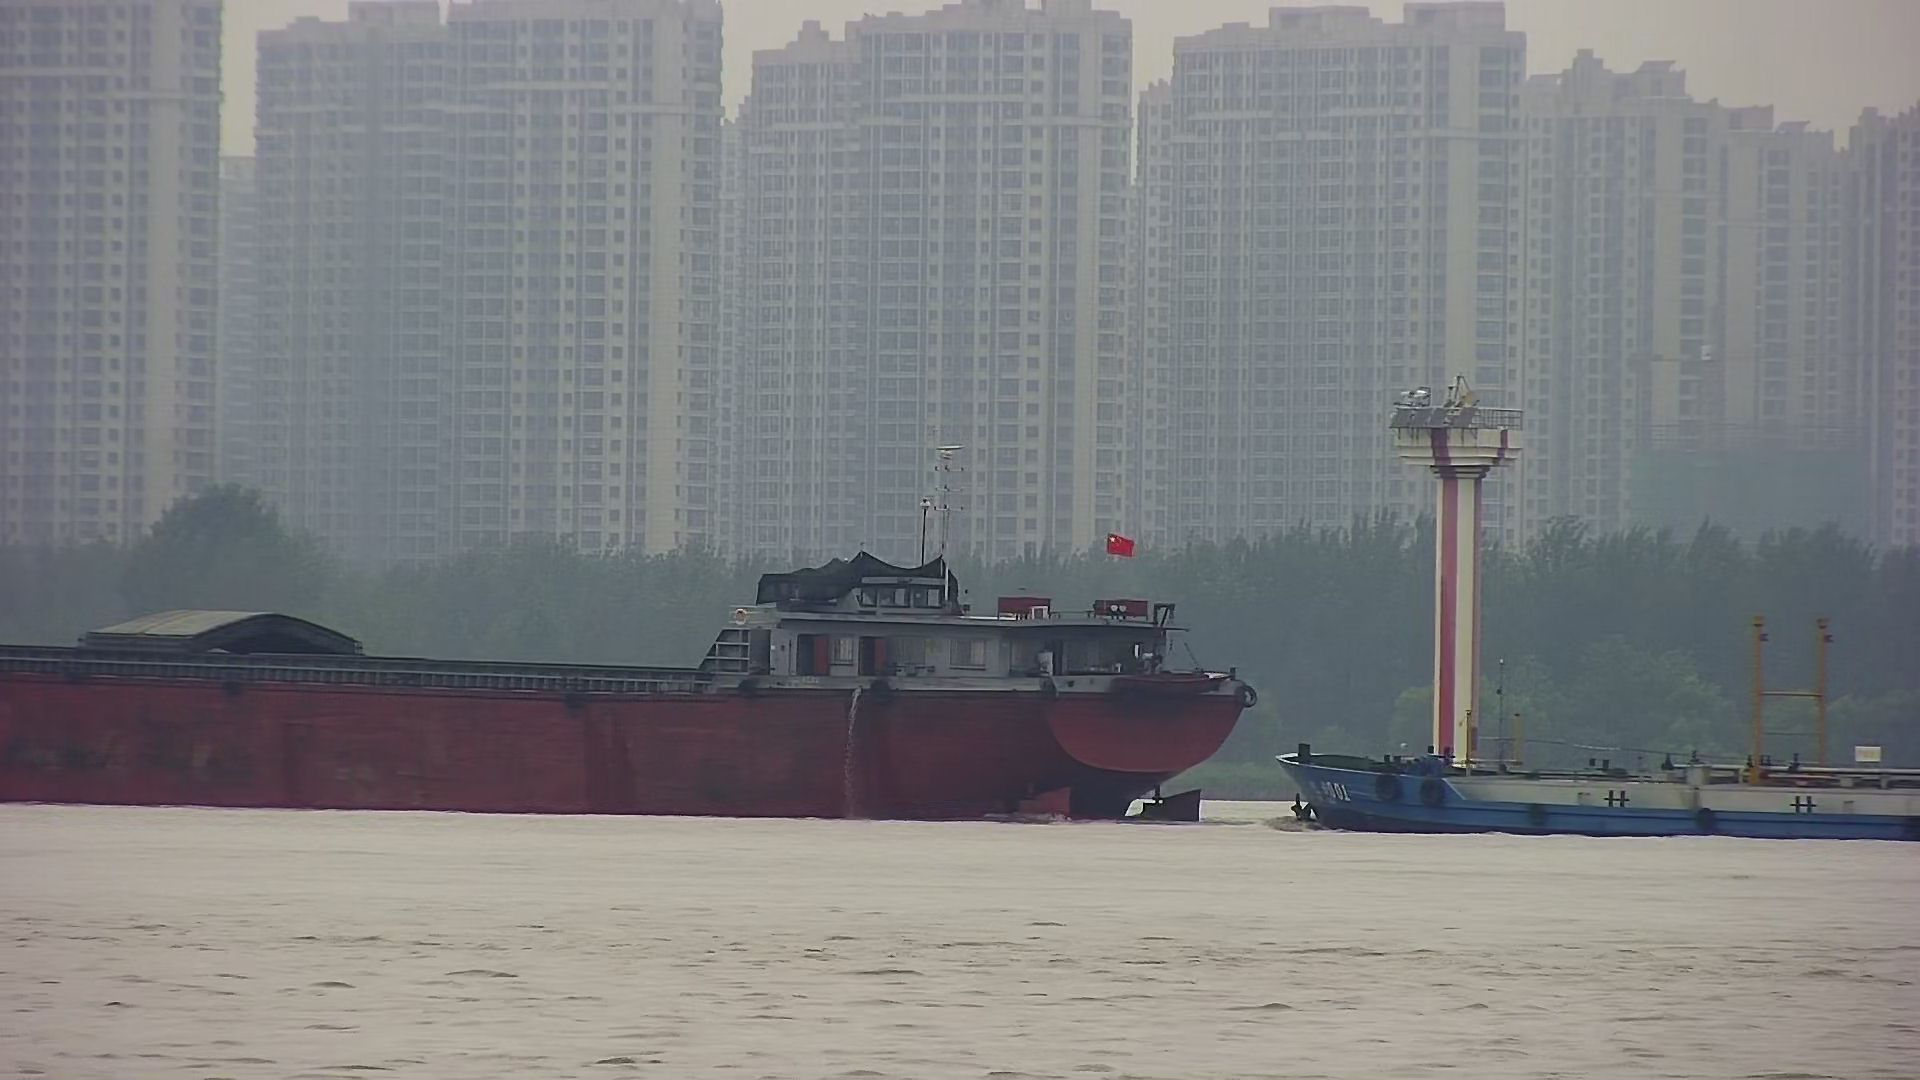platform: (1393, 380, 1528, 848)
ship: (1, 440, 1259, 824), (1271, 611, 1920, 843)
